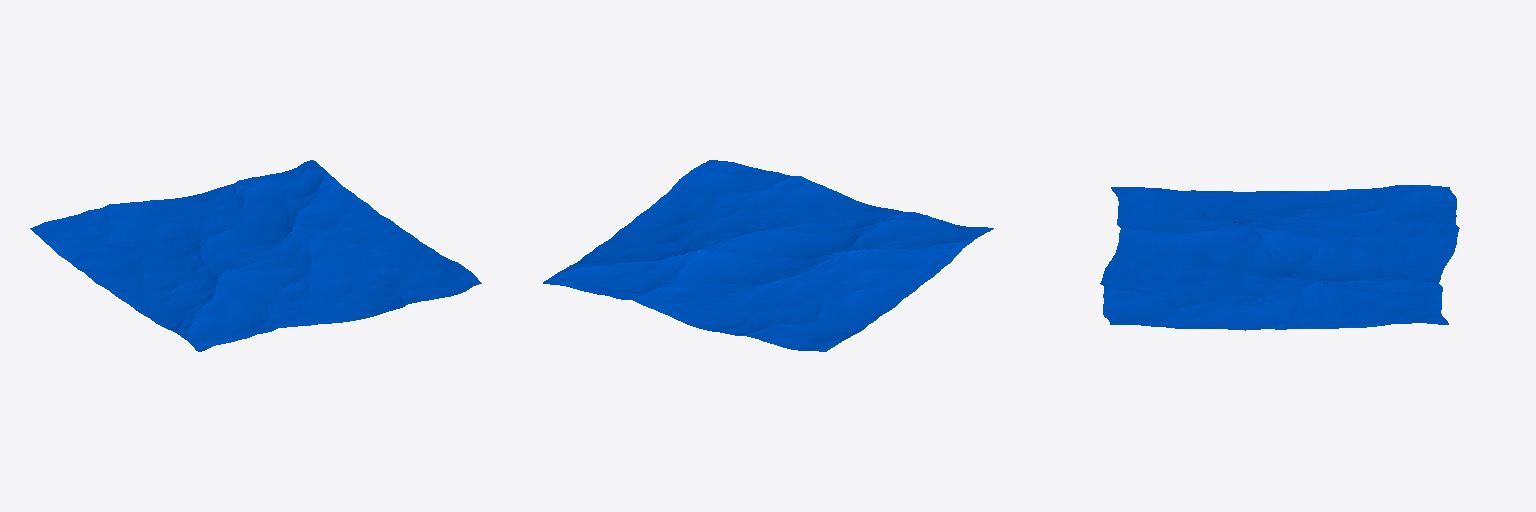
File: Water.obj
The picture shows the model from 3 angles: view 1: azimuth 30°, elevation 25°; view 2: azimuth 150°, elevation 25°; view 3: azimuth 270°, elevation 25°; orthographic projection.
Visible parts, largest first — view 1: Water_Plane; view 2: Water_Plane; view 3: Water_Plane.
Boxes of the visible parts, <box> form: Water_Plane: <box>30,160,481,351</box>; Water_Plane: <box>543,160,993,351</box>; Water_Plane: <box>1100,185,1459,330</box>.
Size of the model in its own units: 41.2 by 1.36 by 44.12.